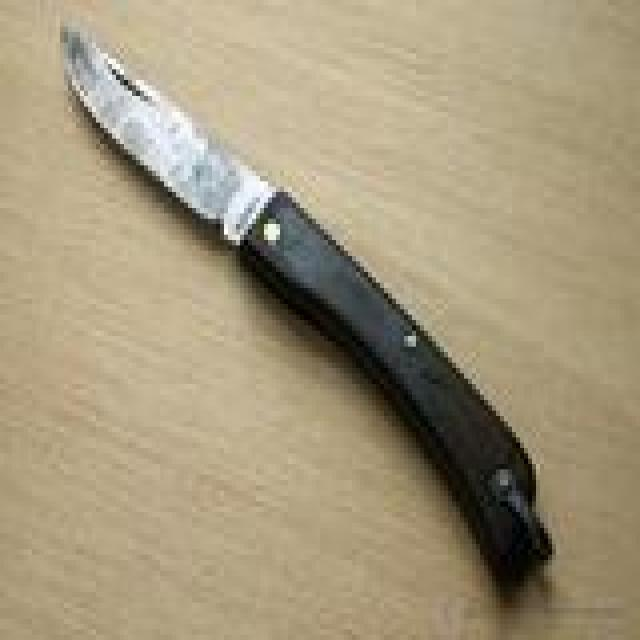Knife: (44, 14, 578, 579)
